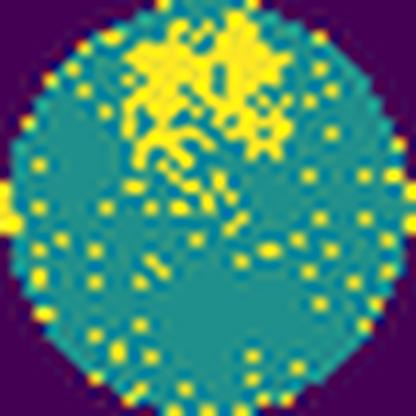Loc: (120, 16, 294, 165)
